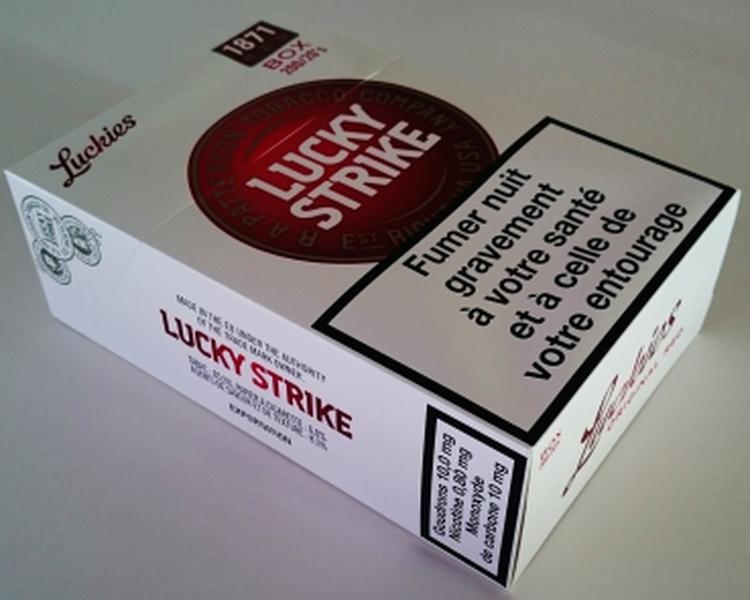lucky_strike_red: (70, 41, 643, 336)
